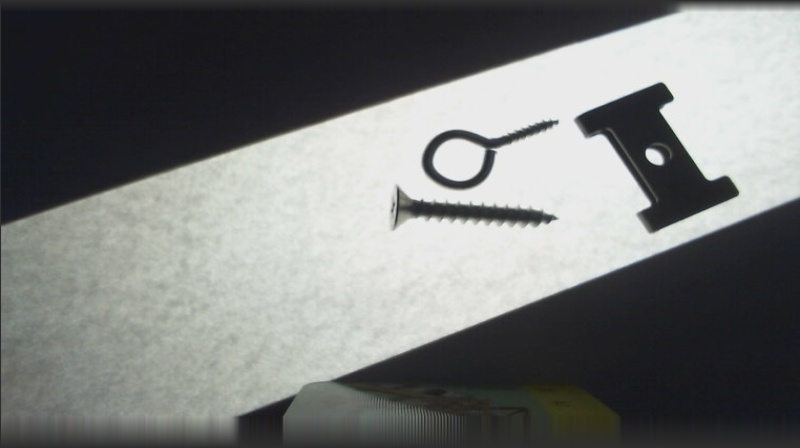O001: (420, 114, 562, 192)
O002: (574, 80, 741, 234)
S001: (381, 184, 560, 236)
